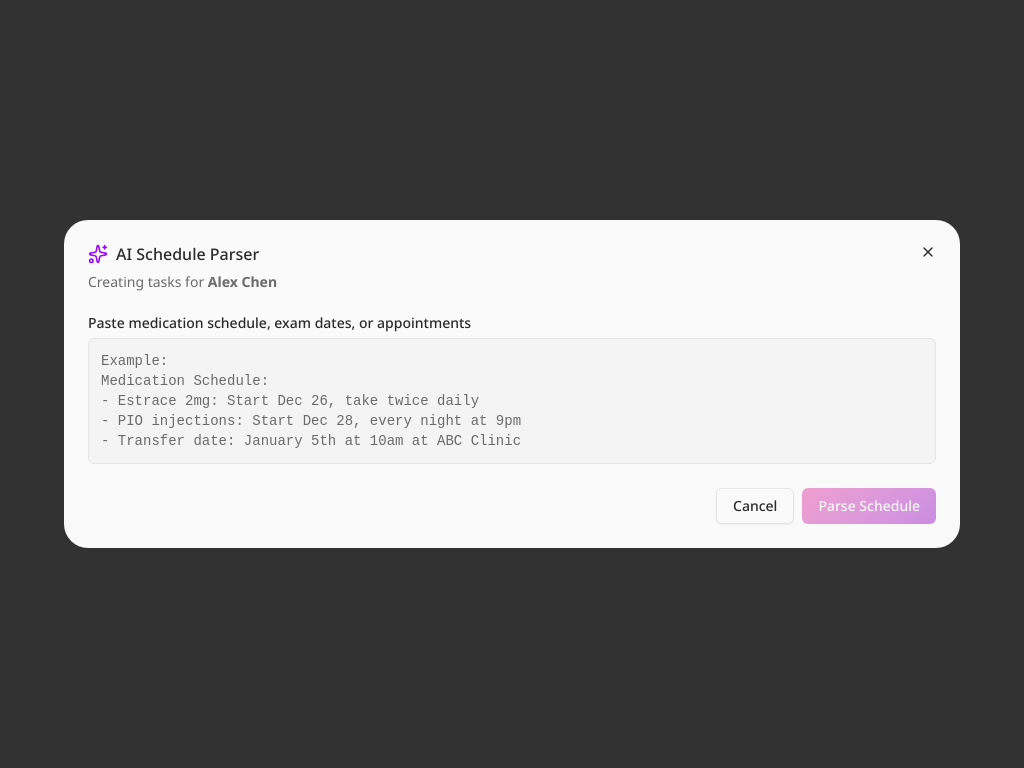
it: ScheduleParserDialog › resets parsed review state when cancelled
Replace the text in the text box with "PIO nightly at 9pm on Feb 20": (512, 401) 88,338 -> 936,464
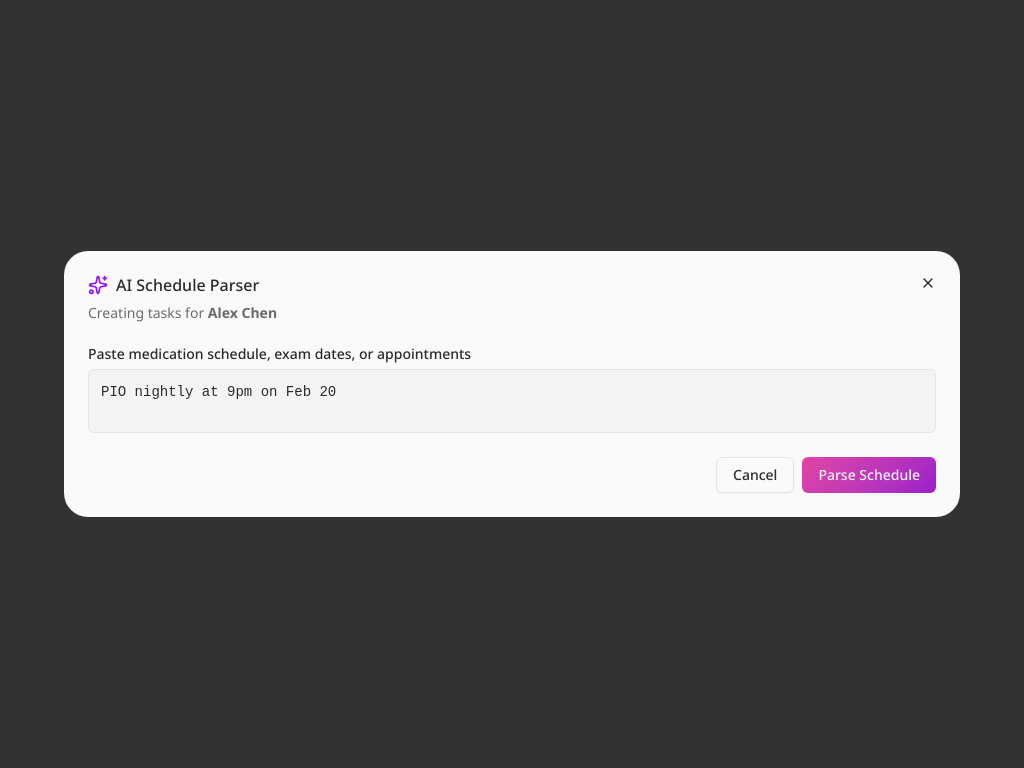
Click the button "Parse Schedule": (869, 475) 802,457 -> 936,493
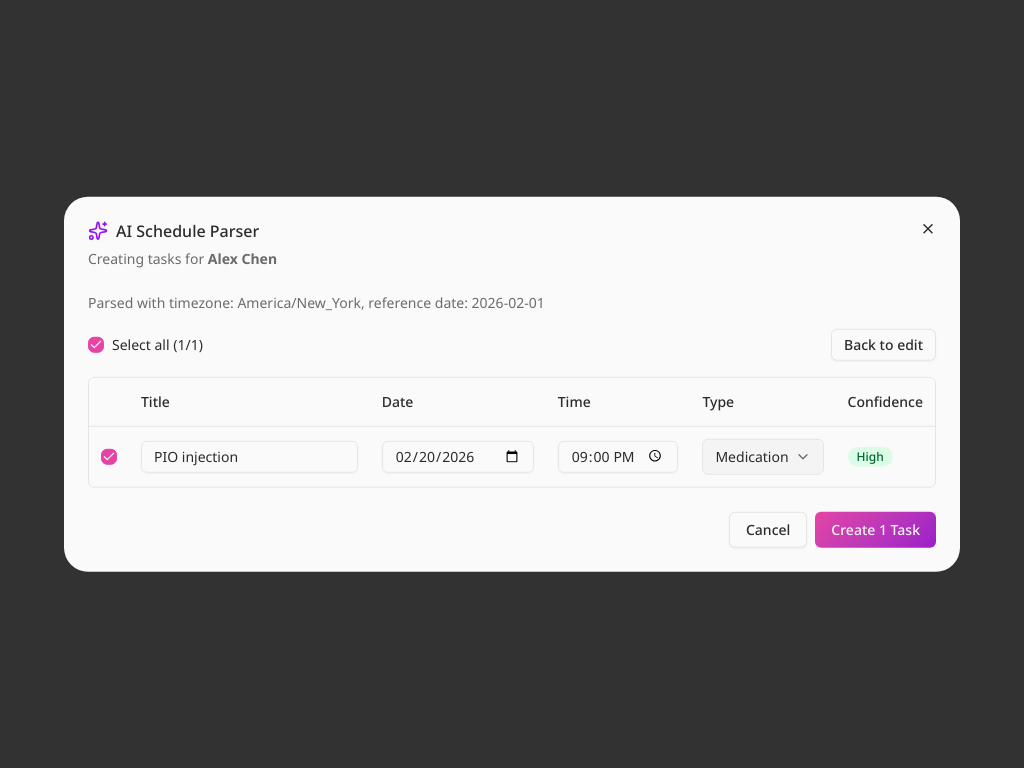
expect the field showing "PIO injection" is shown: met, box 141,440 -> 358,472
Click the button "Cancel": (768, 529) 729,511 -> 807,547
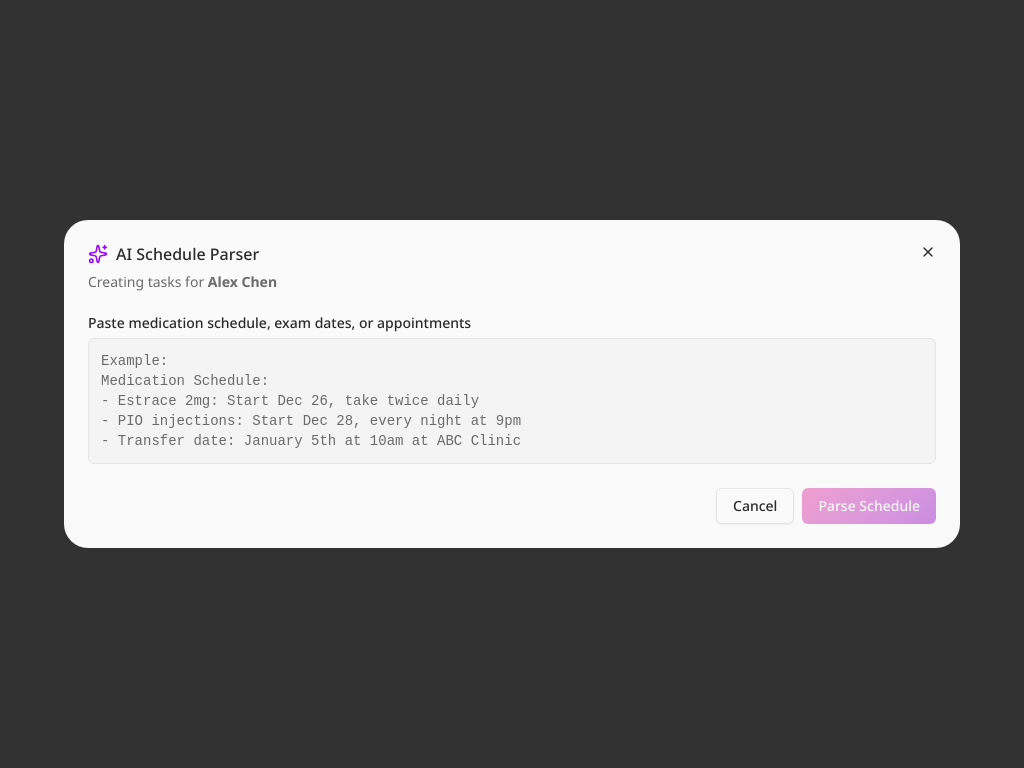
expect the field showing "PIO injection" is not shown: met
expect the text box is empty: met, box 88,338 -> 936,464
